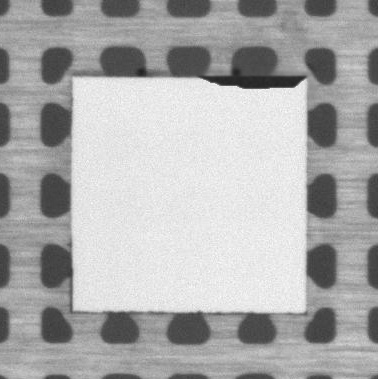DIE_BROKEN: (198, 73, 307, 90)
